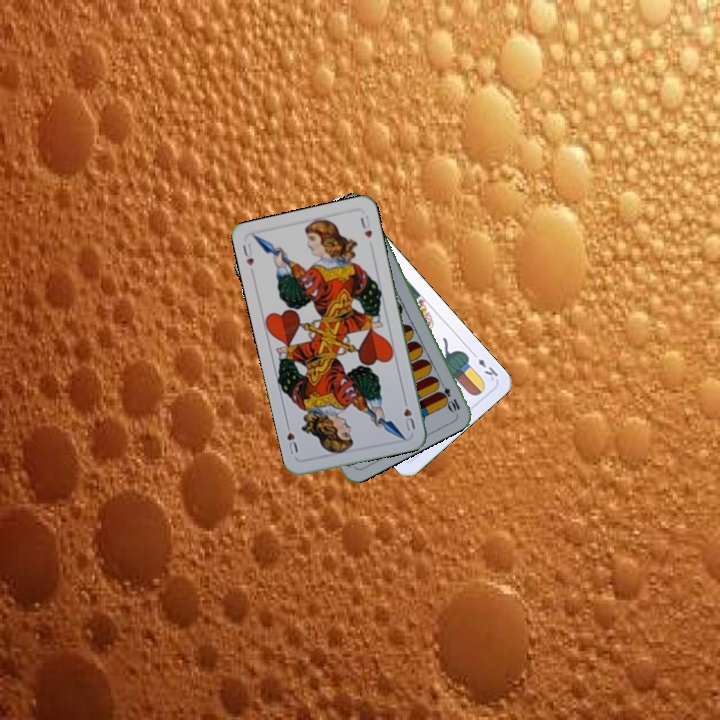E10: (434, 377, 463, 415)
EK: (468, 348, 501, 383)
HU: (399, 394, 418, 434), (238, 240, 256, 268)
